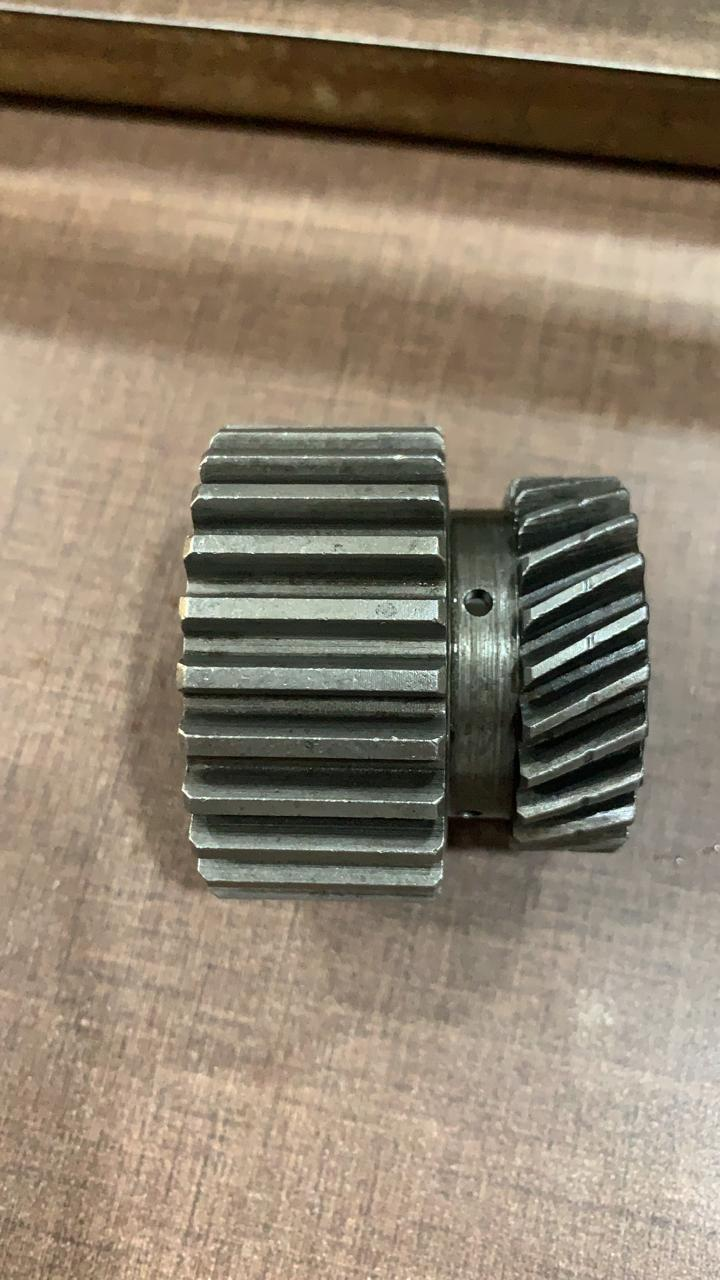engine gear ape: (106, 349, 681, 972)
